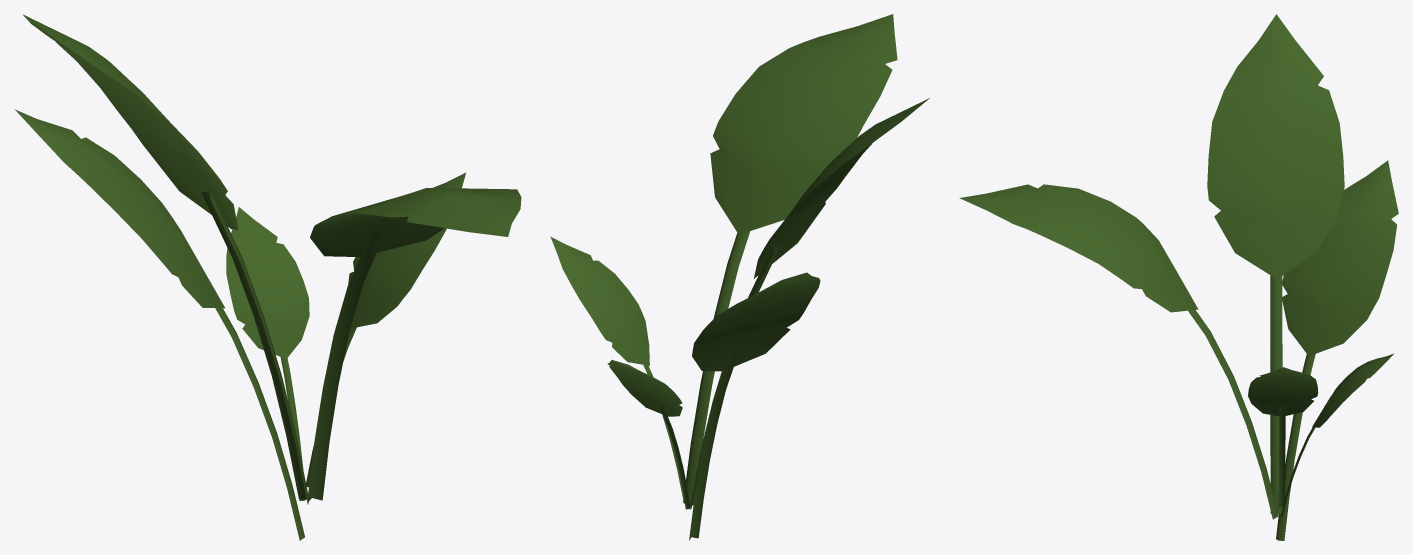
The model's file is Palm_M.fbx.
3 renders of one model, left to right at view 1: azimuth 30°, elevation 25°; view 2: azimuth 150°, elevation 25°; view 3: azimuth 270°, elevation 25°, orthographic. The views are drawn at different scales.
Visible parts, largest first — view 1: Plane.001; view 2: Plane.001; view 3: Plane.001.
Part boxes in pixels (left/top/right/bottom): Plane.001: left=15, top=14, right=521, bottom=540; Plane.001: left=550, top=14, right=929, bottom=540; Plane.001: left=959, top=14, right=1398, bottom=540.
Size of the model in its own units: 2120 by 2681 by 2499.
